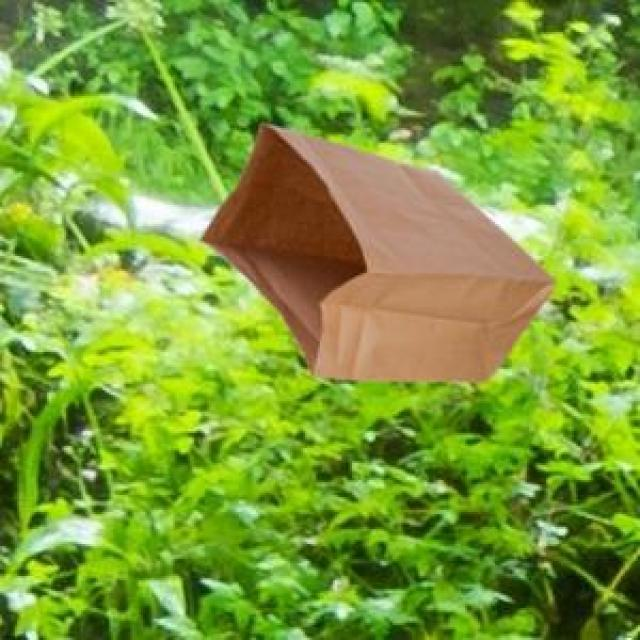paper: (196, 120, 550, 378)
